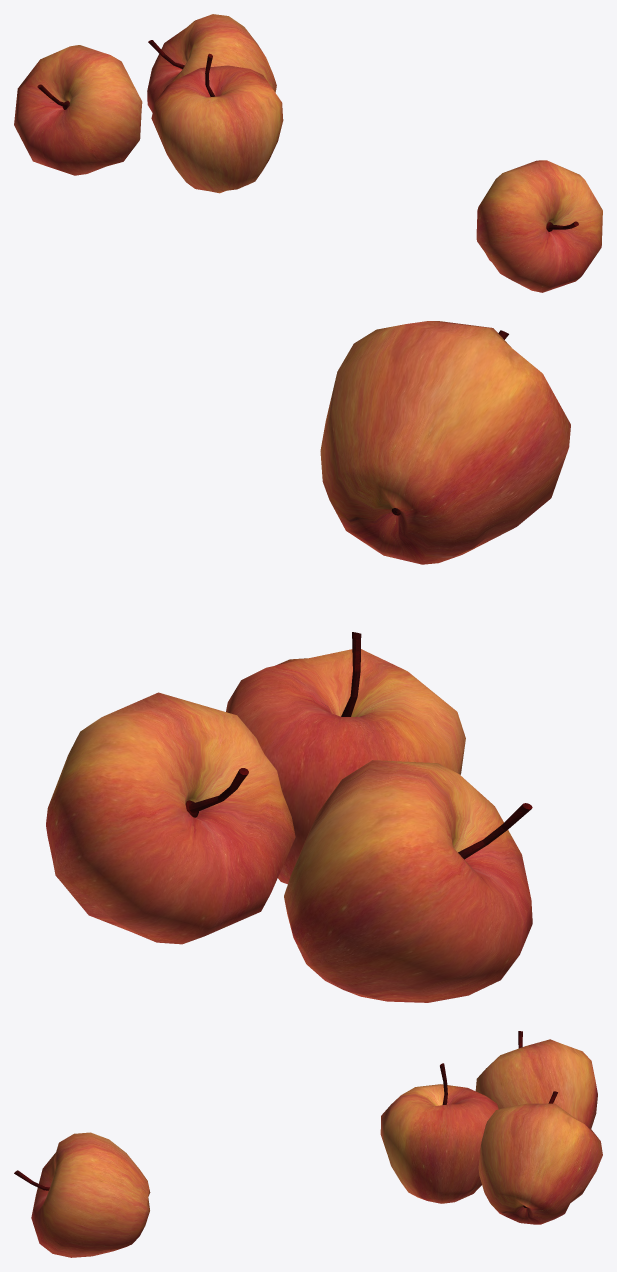
File: apples.gltf
3 renders of one model, top to bottom at view 1: azimuth 30°, elevation 25°; view 2: azimuth 150°, elevation 25°; view 3: azimuth 270°, elevation 25°, orthographic. The views are drawn at different scales.
Parts seen in each view (by area): view 1: polySurface24, polySurface26, polySurface25, polySurface27; view 2: polySurface24, polySurface25, polySurface27, polySurface26; view 3: polySurface27, polySurface25, polySurface26, polySurface24.
Boxes of the visible parts, bbox=[...] form: polySurface24: bbox=[14, 45, 142, 175]; polySurface26: bbox=[151, 53, 283, 193]; polySurface25: bbox=[476, 160, 602, 292]; polySurface27: bbox=[147, 14, 276, 112]; polySurface24: bbox=[284, 760, 532, 1002]; polySurface25: bbox=[320, 321, 570, 564]; polySurface27: bbox=[46, 692, 295, 944]; polySurface26: bbox=[226, 632, 465, 884]; polySurface27: bbox=[478, 1091, 602, 1224]; polySurface25: bbox=[14, 1132, 150, 1257]; polySurface26: bbox=[380, 1063, 498, 1203]; polySurface24: bbox=[475, 1031, 597, 1128].
Bounding box in the file's own units: 8.23 × 3.15 × 13.13.
2 materials, 2 textured.
